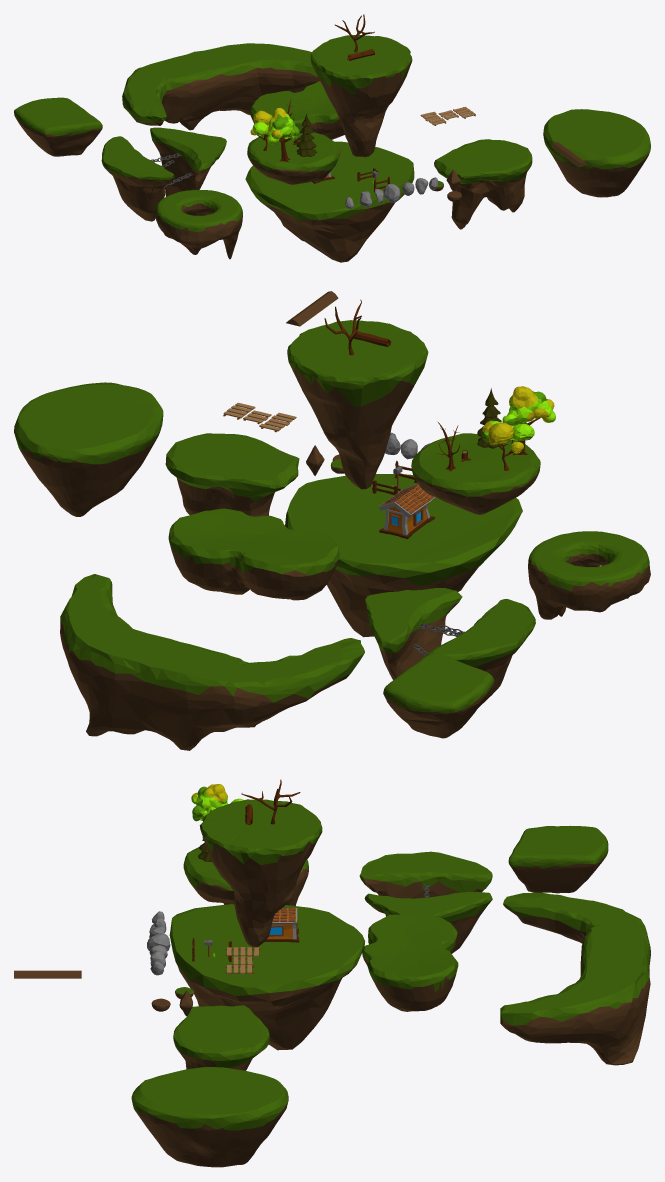
File: islandsNEw.fbx
3 views of the same model, one above another, from view 1: azimuth 30°, elevation 25°; view 2: azimuth 150°, elevation 25°; view 3: azimuth 270°, elevation 25° (orthographic). The views are drawn at different scales.
Parts seen in each view (by area): view 1: island7, islans1, islan3, island6, island9, island4, island8, island10, island2, island5, _6_tree, _8_tree (+1 smaller); view 2: island7, islans1, island6, islan3, island5, island9, island8, island4, island2, island10, house, _6_tree (+1 smaller); view 3: islans1, island7, island6, islan3, island9, island5, island10, island4, island2, _6_tree, house, Cube.
Part boxes in pixels (x1,y1,x2,y2): island7: [122, 43, 319, 130]; islans1: [245, 141, 414, 262]; islan3: [310, 34, 412, 157]; island6: [543, 109, 650, 197]; island9: [101, 127, 226, 221]; island4: [434, 139, 532, 229]; island8: [155, 190, 242, 259]; island10: [14, 97, 102, 156]; island2: [247, 129, 340, 184]; island5: [250, 81, 344, 139]; _6_tree: [267, 108, 299, 162]; _8_tree: [296, 114, 316, 156]; island7: [60, 574, 364, 750]; islans1: [285, 474, 522, 637]; island6: [14, 382, 163, 516]; islan3: [287, 320, 428, 489]; island5: [168, 508, 339, 600]; island9: [365, 588, 535, 707]; island8: [528, 531, 650, 619]; island4: [165, 433, 299, 516]; island2: [411, 433, 540, 514]; island10: [383, 652, 494, 738]; house: [378, 484, 435, 538]; _6_tree: [502, 386, 555, 455]; islans1: [169, 904, 365, 1050]; island7: [500, 892, 650, 1065]; island6: [131, 1067, 288, 1167]; islan3: [199, 799, 322, 947]; island9: [359, 851, 492, 953]; island5: [362, 912, 458, 1011]; island10: [508, 825, 608, 893]; island4: [173, 1005, 269, 1070]; island2: [183, 847, 234, 904]; _6_tree: [191, 784, 227, 821]; house: [265, 907, 299, 942]; Cube: [14, 970, 81, 978].
Size of the model in its own units: 1843 by 856 by 1781.
